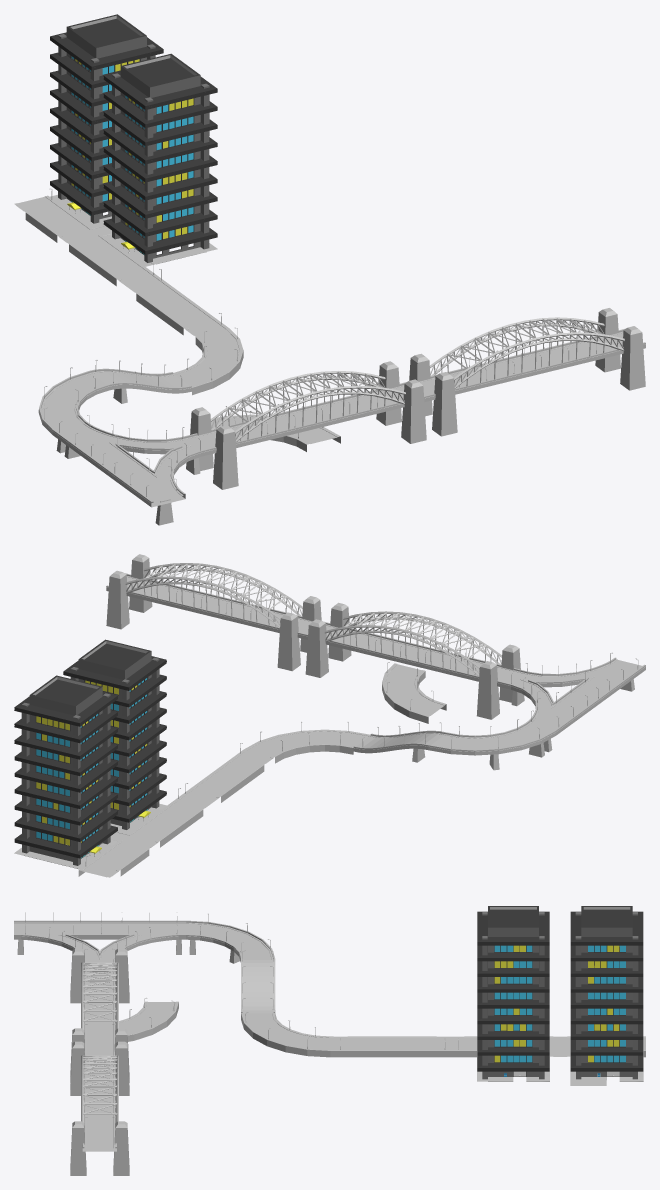
File: Rondo.fbx
3 renders of one model, top to bottom at view 1: azimuth 30°, elevation 25°; view 2: azimuth 150°, elevation 25°; view 3: azimuth 270°, elevation 25°, orthographic. The views are drawn at different scales.
Visible parts, largest first — view 1: ROAD.006, Highway_Bridge_2_mesh, Highway_Bridge_2_mesh.001, ROAD.010, Highway_Join_Highway_2_mesh, Freeway_Curve_1_mesh, Highway_Curve_1_mesh, ROAD.001, Freeway_Lift_Highway_mesh, ROAD.005, ROAD.003, Freeway_Curve_1_mesh.002 (+2 smaller); view 2: ROAD.010, Highway_Bridge_2_mesh, Highway_Bridge_2_mesh.001, ROAD.006, Highway_Join_Highway_2_mesh, Highway_Curve_1_mesh, Freeway_Curve_1_mesh, Freeway_Curve_1_mesh.002, ROAD.003, Freeway_Lift_Highway_mesh, ROAD.008, ROAD.001 (+2 smaller); view 3: ROAD.010, ROAD.006, Highway_Bridge_2_mesh.001, Highway_Bridge_2_mesh, Highway_Join_Highway_2_mesh, Freeway_Curve_1_mesh, Highway_Curve_1_mesh, Freeway_Lift_Highway_mesh, Freeway_Curve_1_mesh.002, ROAD.003, ROAD.001, ROAD.005 (+7 smaller).
Boxes of the visible parts, x1,y1,x2,y2 form: ROAD.006: (103,53,217,266); Highway_Bridge_2_mesh: (188,361,426,489); Highway_Bridge_2_mesh.001: (409,308,645,436); ROAD.010: (50,14,163,227); Highway_Join_Highway_2_mesh: (52,415,207,525); Freeway_Curve_1_mesh: (173,327,243,395); Highway_Curve_1_mesh: (38,367,109,453); ROAD.001: (104,77,217,253); Freeway_Lift_Highway_mesh: (90,360,191,403); ROAD.005: (124,95,193,254); ROAD.003: (50,38,163,214); Freeway_Curve_1_mesh.002: (211,406,340,451); ROAD.010: (14,675,117,869); Highway_Bridge_2_mesh: (305,602,522,719); Highway_Bridge_2_mesh.001: (106,554,321,671); ROAD.006: (63,639,166,833); Highway_Join_Highway_2_mesh: (504,652,645,752); Highway_Curve_1_mesh: (428,719,555,770); Freeway_Curve_1_mesh: (244,721,370,763); Freeway_Curve_1_mesh.002: (382,662,446,723); ROAD.003: (14,697,117,857); Freeway_Lift_Highway_mesh: (353,722,445,762); ROAD.008: (36,714,98,858); ROAD.001: (63,661,166,821); ROAD.010: (570,906,643,1085); ROAD.006: (477,906,549,1081); Highway_Bridge_2_mesh.001: (70,1041,129,1175); Highway_Bridge_2_mesh: (70,948,129,1082); Highway_Join_Highway_2_mesh: (14,912,185,962); Freeway_Curve_1_mesh: (241,1009,330,1057); Highway_Curve_1_mesh: (186,913,274,963); Freeway_Lift_Highway_mesh: (241,950,275,1013); Freeway_Curve_1_mesh.002: (119,997,178,1041); ROAD.003: (570,943,643,1070); ROAD.001: (477,943,549,1070); ROAD.005: (494,945,532,1076).
Bounding box in the file's own units: 38986 × 12956 × 45951.
